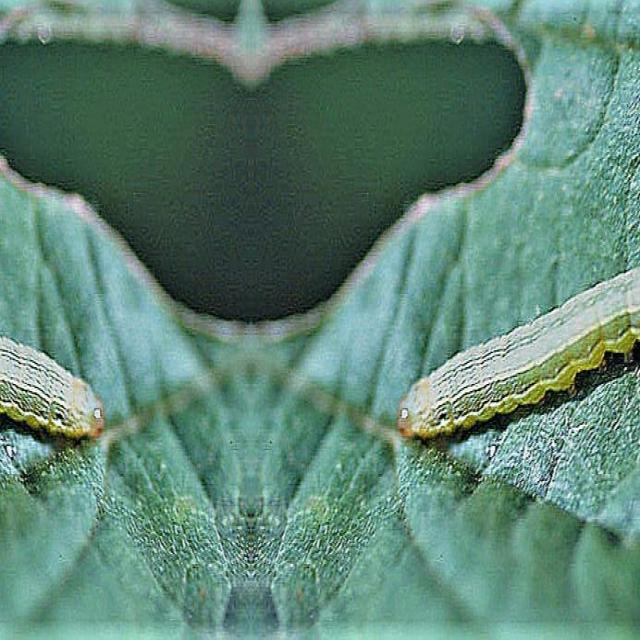Armyworm: (386, 247, 640, 525), (1, 278, 105, 477)
